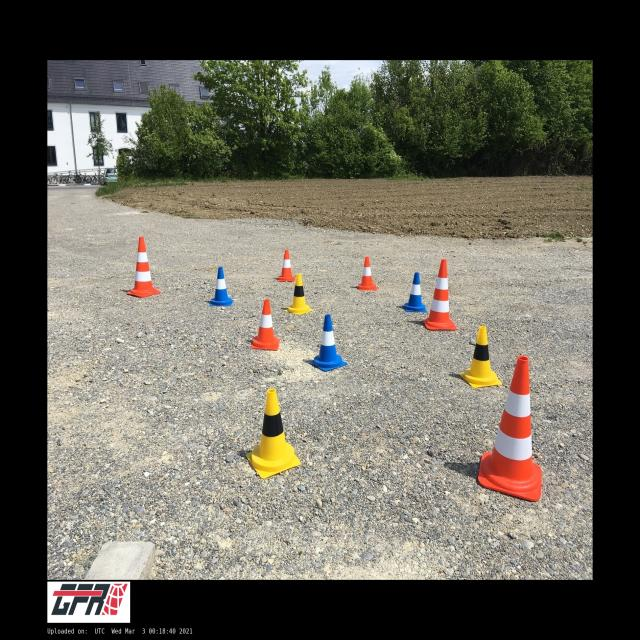blue_cone: (310, 315, 348, 371), (402, 273, 428, 312), (208, 267, 234, 306)
large_orange_cone: (478, 356, 542, 502), (422, 259, 457, 331), (127, 237, 160, 297)
orange_cone: (251, 300, 280, 350), (356, 256, 378, 290), (278, 250, 295, 281)
yellow_cone: (247, 388, 300, 478), (459, 326, 502, 388), (284, 273, 313, 315)
